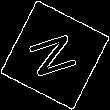N_E: (25, 28, 85, 82)
